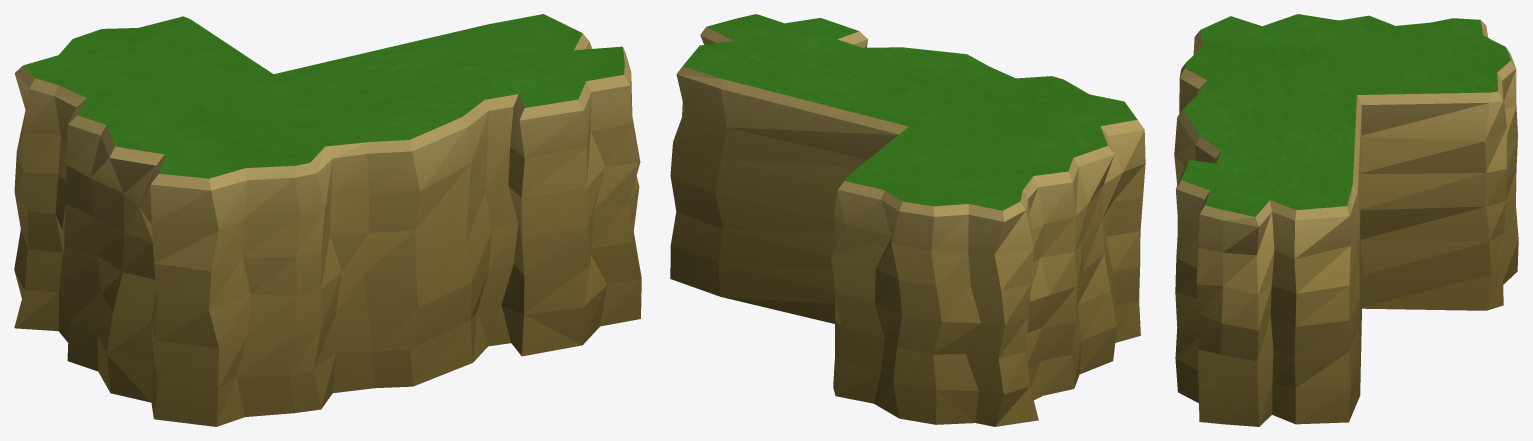
Rendered from LShapeCliff_01.FBX.
3 views of the same model, side by side, from view 1: azimuth 30°, elevation 25°; view 2: azimuth 150°, elevation 25°; view 3: azimuth 270°, elevation 25° (orthographic). The views are drawn at different scales.
Parts seen in each view (by area): view 1: Plane005; view 2: Plane005; view 3: Plane005.
Part boxes in pixels (x1,y1,x2,y2): Plane005: (14,14,641,426); Plane005: (670,14,1145,426); Plane005: (1174,14,1518,426).
Bounding box in the file's own units: 593 × 278 × 411.
